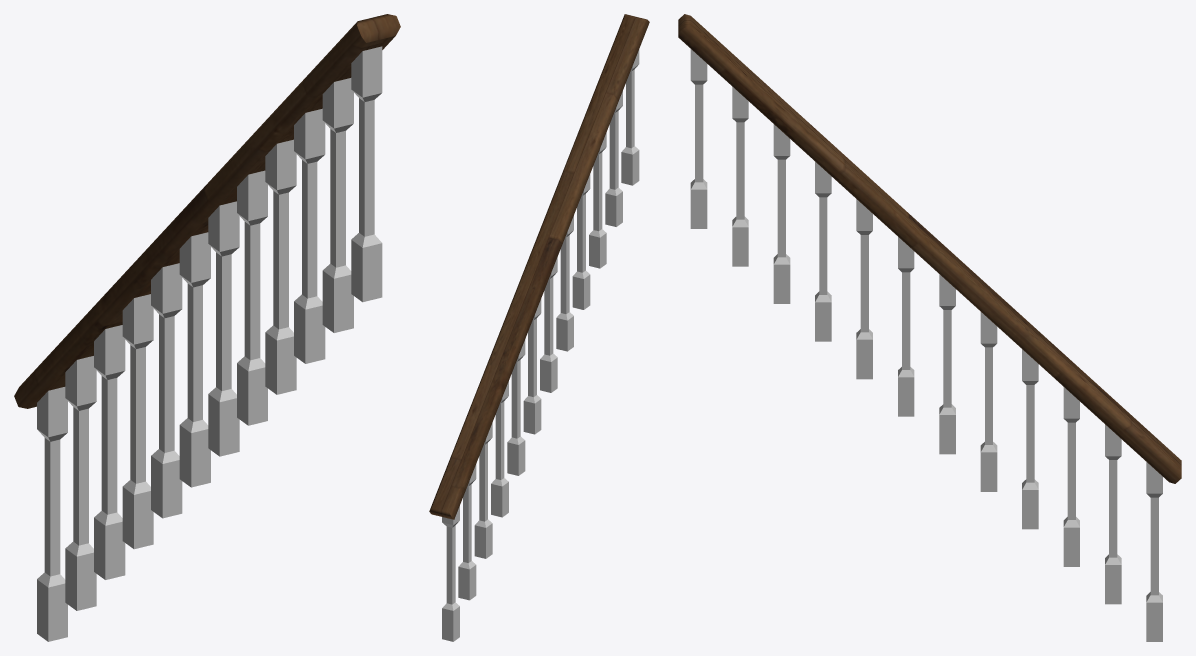
File: bannister.fbx
The picture shows the model from 3 angles, left to right: view 1: azimuth 30°, elevation 25°; view 2: azimuth 150°, elevation 25°; view 3: azimuth 270°, elevation 25°; orthographic projection. The views are drawn at different scales.
Visible parts, largest first — view 1: bannister; view 2: bannister; view 3: bannister.
Part boxes in pixels (bbox=[...]): bannister: bbox=[14, 14, 400, 641]; bannister: bbox=[429, 14, 649, 641]; bannister: bbox=[678, 14, 1181, 641].
Bounding box in the file's own units: 0.8 × 16.45 × 12.15.
1 material, 1 textured.
